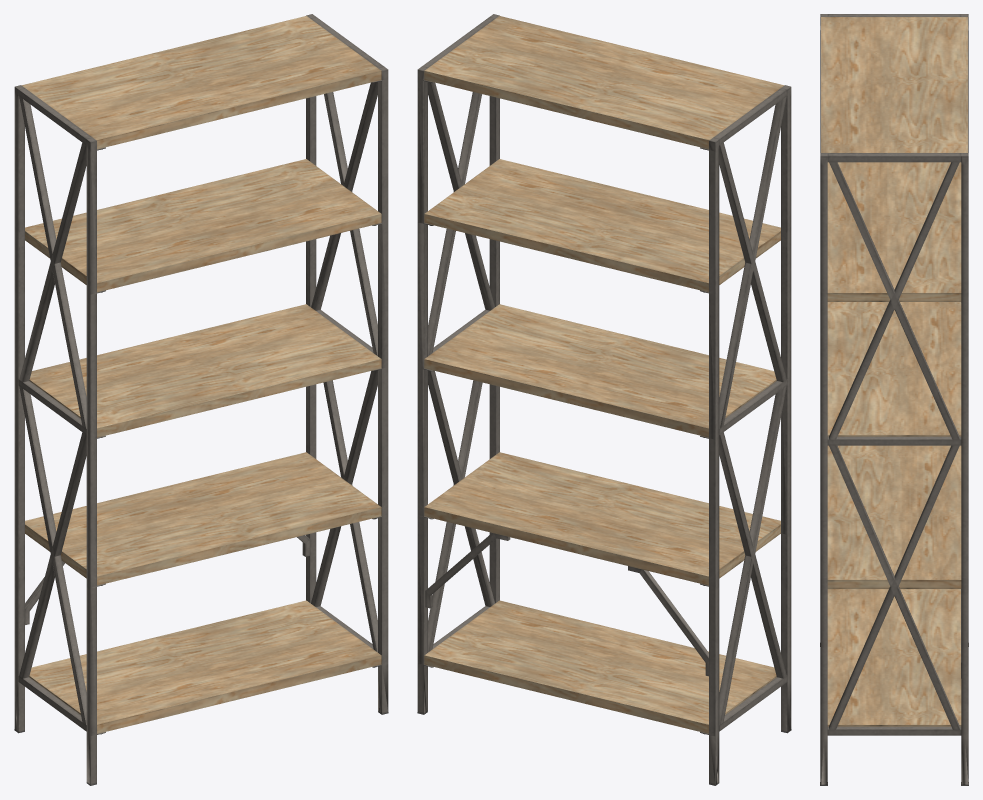
3 renders of one model, left to right at view 1: azimuth 30°, elevation 25°; view 2: azimuth 150°, elevation 25°; view 3: azimuth 270°, elevation 25°, orthographic. The views are drawn at different scales.
Parts seen in each view (by area): view 1: visual_RootNode; view 2: visual_RootNode; view 3: visual_RootNode.
Part boxes in pixels (left/top/right/bottom): visual_RootNode: left=14, top=14, right=388, bottom=785; visual_RootNode: left=417, top=14, right=791, bottom=785; visual_RootNode: left=820, top=14, right=968, bottom=785.
Size of the model in its own units: 0.8738 by 0.3861 by 1.8.
Materials: 1 (1 with a texture image).
